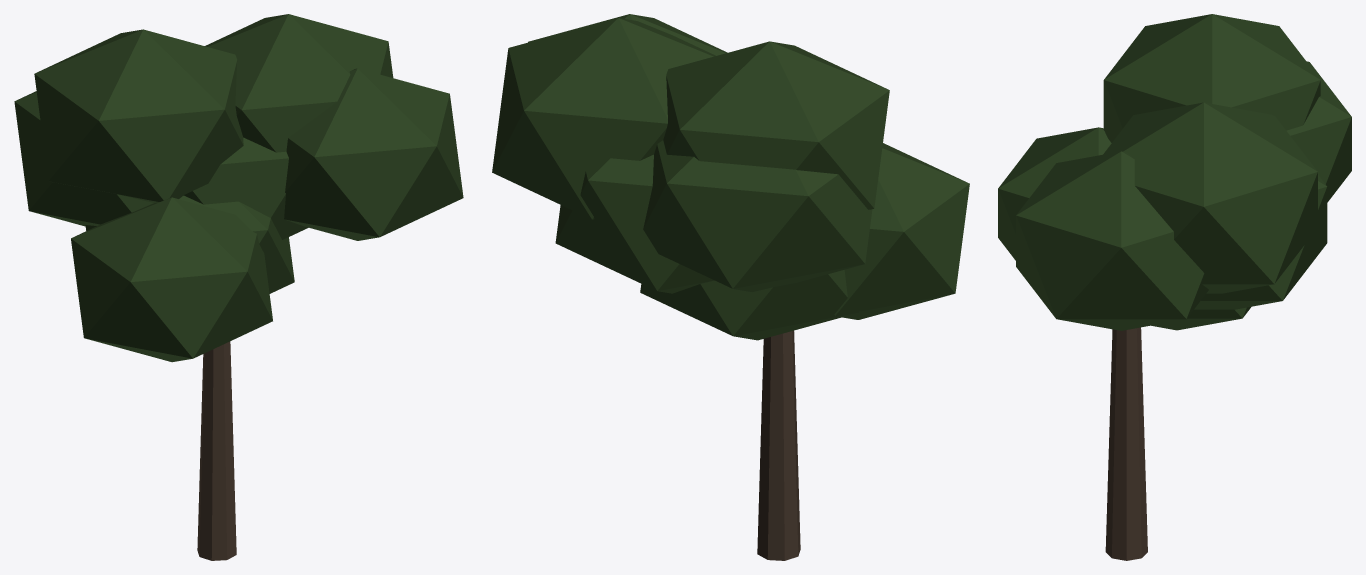
Rendered from SM_Mese_B.fbx.
3 views of the same model, side by side, from view 1: azimuth 30°, elevation 25°; view 2: azimuth 150°, elevation 25°; view 3: azimuth 270°, elevation 25° (orthographic). The views are drawn at different scales.
Visible parts, largest first — view 1: Mese_B; view 2: Mese_B; view 3: Mese_B.
Boxes of the visible parts, x1,y1,x2,y2 form: Mese_B: [14, 14, 463, 560]; Mese_B: [492, 14, 969, 560]; Mese_B: [998, 14, 1351, 560].
Size of the model in its own units: 749 by 951 by 585.
